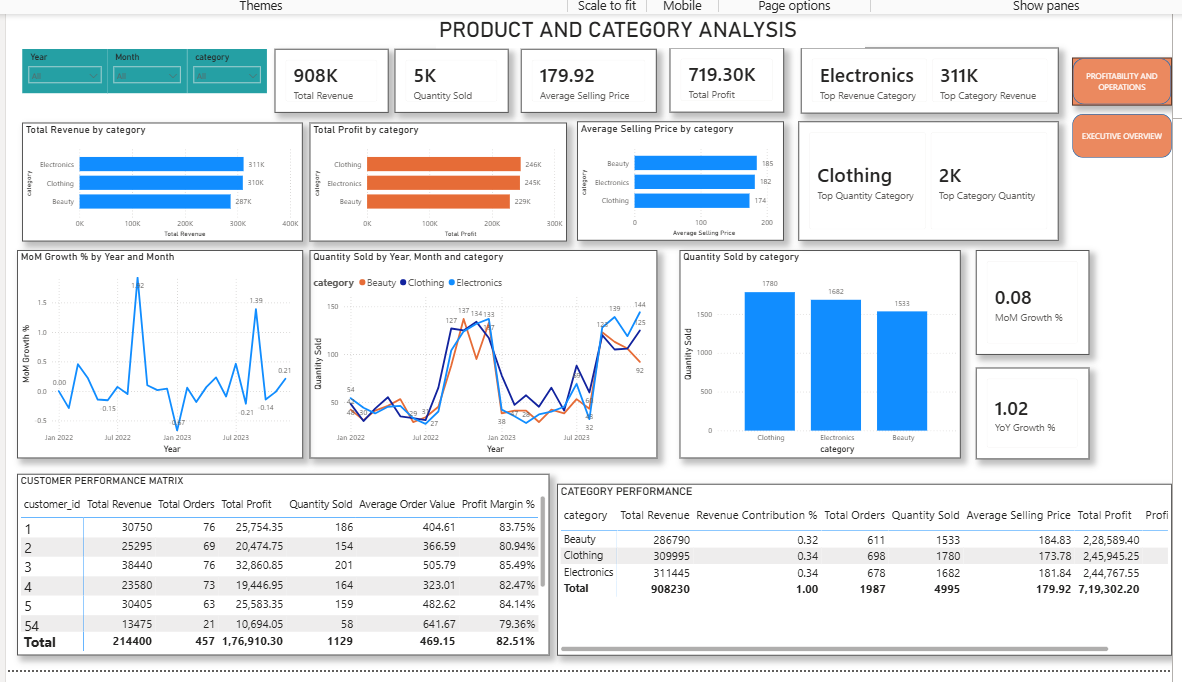

This screenshot's page, from the dashboard's own definition file:
{"tool":"powerbi","page":{"name":"PRODUCT AND CATEGORY ANALYSIS","canvas":[1920,1080],"ordinal":3},"visuals":[{"type":"slicer","fields":{"Values":["Calendar.Date.Variation.Date Hierarchy.Year"]},"box":[26.7,56.7,140,73],"z":0},{"type":"slicer","fields":{"Values":["Calendar.Date.Variation.Date Hierarchy.Month"]},"box":[166.7,56.7,131,73],"z":1000},{"type":"slicer","fields":{"Values":["RETAILSALES.category"]},"box":[298.3,56.7,131,73],"z":2000},{"type":"cardVisual","fields":{"Data":["RETAILSALES.Total Revenue"]},"box":[441.7,56.7,187,105],"z":3000},{"type":"cardVisual","fields":{"Data":["RETAILSALES.Quantity Sold"]},"box":[640,58.3,187,105],"z":4000},{"type":"cardVisual","fields":{"Data":["RETAILSALES.Average Selling Price"]},"box":[848.3,58.3,223.3,105],"z":5000},{"type":"cardVisual","fields":{"Data":["RETAILSALES.Total Profit"]},"box":[1094,56,188,106],"z":6000},{"type":"barChart","fields":{"Category":["RETAILSALES.category"],"Y":["RETAILSALES.Total Revenue"]},"box":[26.7,178.3,461.7,195],"z":7000},{"type":"clusteredColumnChart","fields":{"Category":["RETAILSALES.category"],"Y":["RETAILSALES.Quantity Sold"]},"box":[1110,390,462,342],"z":8000},{"type":"clusteredBarChart","fields":{"Category":["RETAILSALES.category"],"Y":["RETAILSALES.Total Profit"]},"box":[500,178.3,423.3,195],"z":9000},{"type":"clusteredBarChart","fields":{"Y":["RETAILSALES.Average Selling Price"],"Category":["RETAILSALES.category"]},"box":[940,178,340,196],"z":10000},{"type":"lineChart","fields":{"Y":["RETAILSALES.Quantity Sold"],"Category":["Calendar.Date.Variation.Date Hierarchy.Year","Calendar.Date.Variation.Date Hierarchy.Month"],"Series":["RETAILSALES.category"]},"box":[500,390,572,342],"z":11000},{"type":"cardVisual","fields":{"Data":["RETAILSALES.Top Revenue Category","Calendar.Top Category Revenue"]},"box":[1310,56,424,108],"z":12000},{"type":"cardVisual","fields":{"Data":["RETAILSALES.Top Quantity Category","RETAILSALES.Top Category Quantity"]},"box":[1306,178,428,196],"z":13000},{"type":"lineChart","fields":{"Y":["RETAILSALES.MoM Growth %"],"Category":["Calendar.Date.Variation.Date Hierarchy.Year","Calendar.Date.Variation.Date Hierarchy.Month"]},"box":[18,390,470,342],"z":14000},{"type":"cardVisual","fields":{"Data":["RETAILSALES.MoM Growth %"]},"box":[1598,390,186,172],"z":15000},{"type":"pivotTable","title":"CUSTOMER PERFORMANCE MATRIX","fields":{"Rows":["RETAILSALES.customer_id"],"Values":["RETAILSALES.Total Revenue","RETAILSALES.Total Orders","RETAILSALES.Total Profit","RETAILSALES.Quantity Sold","RETAILSALES.Average Order Value","RETAILSALES.Profit Margin %"]},"box":[18,758,876,298],"z":16000},{"type":"pivotTable","title":"CATEGORY PERFORMANCE","fields":{"Rows":["RETAILSALES.category"],"Values":["RETAILSALES.Total Revenue","RETAILSALES.Revenue Contribution %","RETAILSALES.Total Orders","RETAILSALES.Quantity Sold","RETAILSALES.Average Selling Price","RETAILSALES.Total Profit","RETAILSALES.Profit Margin %"]},"box":[908,774,1012,282],"z":17000},{"type":"cardVisual","fields":{"Data":["RETAILSALES.YoY Growth %"]},"box":[1598,582,186,150],"z":18000},{"type":"textbox","title":"PRODUCT AND CATEGORY ANALYSIS","box":[708,4,706,52],"z":19000},{"type":"shape","title":"PROFITABILITY AND OPERATIONS","box":[1756,72,164,78],"z":20000},{"type":"shape","box":[1756,164,164,72],"z":21000}]}

Visuals, with their boxes in screenshot pixels (x1, y1, x2, y2):
slicer - Calendar.Date.Variation.Date Hierarchy.Year: l=19, t=47, r=104, b=91
slicer - Calendar.Date.Variation.Date Hierarchy.Month: l=104, t=47, r=184, b=91
slicer - RETAILSALES.category: l=184, t=47, r=264, b=91
cardVisual - RETAILSALES.Total Revenue: l=271, t=47, r=385, b=110
cardVisual - RETAILSALES.Quantity Sold: l=392, t=48, r=505, b=111
cardVisual - RETAILSALES.Average Selling Price: l=518, t=48, r=654, b=111
cardVisual - RETAILSALES.Total Profit: l=667, t=46, r=781, b=111
barChart - RETAILSALES.category x RETAILSALES.Total Revenue: l=19, t=121, r=300, b=239
clusteredColumnChart - RETAILSALES.category x RETAILSALES.Quantity Sold: l=677, t=249, r=957, b=457
clusteredBarChart - RETAILSALES.category x RETAILSALES.Total Profit: l=307, t=121, r=564, b=239
clusteredBarChart - RETAILSALES.Average Selling Price x RETAILSALES.category: l=574, t=120, r=780, b=239
lineChart - RETAILSALES.Quantity Sold x Calendar.Date.Variation.Date Hierarchy.Year: l=307, t=249, r=654, b=457
cardVisual - RETAILSALES.Top Revenue Category x Calendar.Top Category Revenue: l=798, t=46, r=1056, b=112
cardVisual - RETAILSALES.Top Quantity Category x RETAILSALES.Top Category Quantity: l=796, t=120, r=1056, b=239
lineChart - RETAILSALES.MoM Growth % x Calendar.Date.Variation.Date Hierarchy.Year: l=14, t=249, r=299, b=457
cardVisual - RETAILSALES.MoM Growth %: l=973, t=249, r=1086, b=354
"CUSTOMER PERFORMANCE MATRIX" pivotTable: l=14, t=472, r=546, b=653
"CATEGORY PERFORMANCE" pivotTable: l=554, t=482, r=1169, b=653
cardVisual - RETAILSALES.YoY Growth %: l=973, t=366, r=1086, b=457
"PRODUCT AND CATEGORY ANALYSIS" textbox: l=433, t=15, r=862, b=46
"PROFITABILITY AND OPERATIONS" shape: l=1069, t=56, r=1169, b=103
shape: l=1069, t=112, r=1169, b=156
